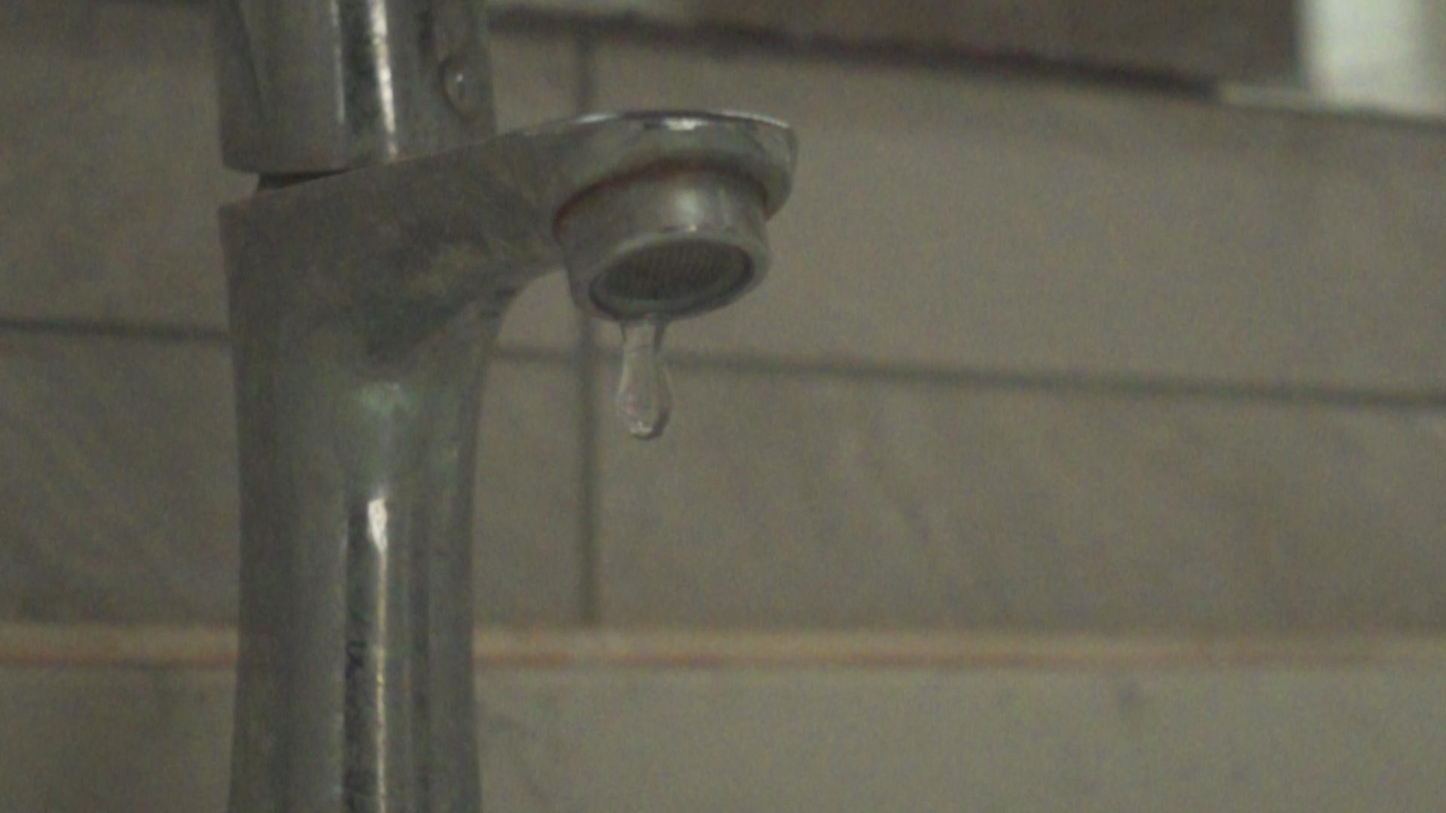water drop: (610, 306, 678, 443)
